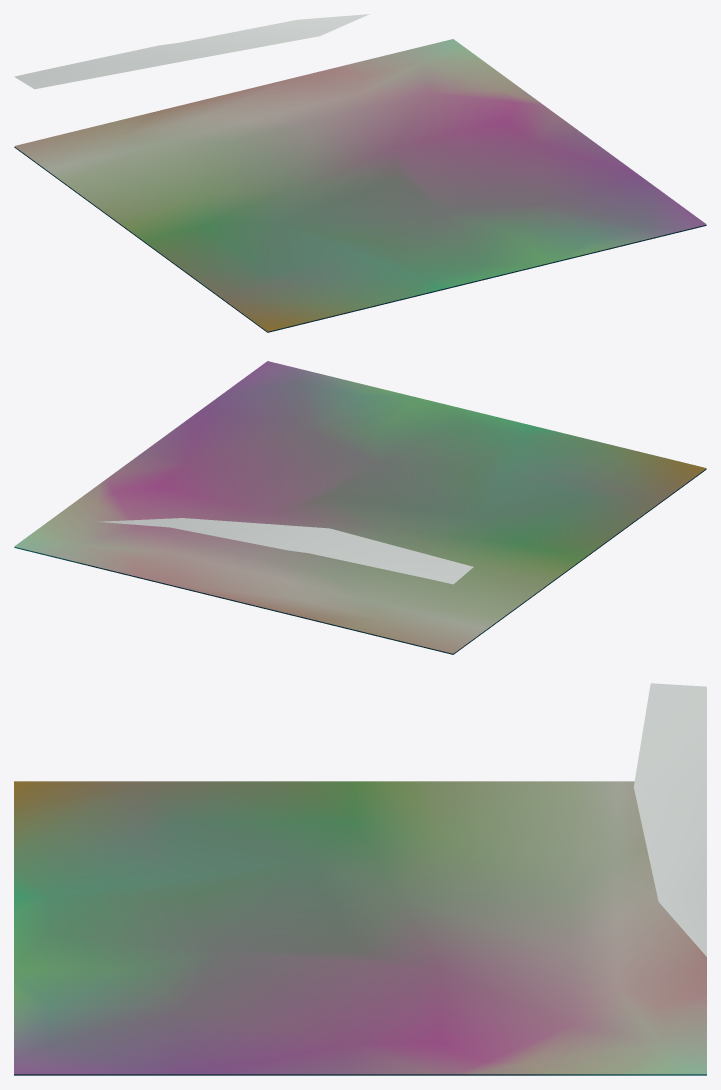
3 renders of one model, top to bottom at view 1: azimuth 30°, elevation 25°; view 2: azimuth 150°, elevation 25°; view 3: azimuth 270°, elevation 25°, orthographic. The views are drawn at different scales.
Visible parts, largest first — view 1: G:\FFXIV-MapTools\exports\r2f1\bg\ex1\01_roc_r2\fld\r2f1\bgp (×3); view 2: G:\FFXIV-MapTools\exports\r2f1\bg\ex1\01_roc_r2\fld\r2f1\bgp (×3); view 3: G:\FFXIV-MapTools\exports\r2f1\bg\ex1\01_roc_r2\fld\r2f1\bgp (×3).
Part boxes in pixels (left/top/right/bottom): G:\FFXIV-MapTools\exports\r2f1\bg\ex1\01_roc_r2\fld\r2f1\bgp (×3): left=14, top=14, right=706, bottom=332; G:\FFXIV-MapTools\exports\r2f1\bg\ex1\01_roc_r2\fld\r2f1\bgp (×3): left=14, top=361, right=706, bottom=654; G:\FFXIV-MapTools\exports\r2f1\bg\ex1\01_roc_r2\fld\r2f1\bgp (×3): left=14, top=683, right=706, bottom=1075.
Bounding box in the file's own units: 128 × 20.31 × 128.
